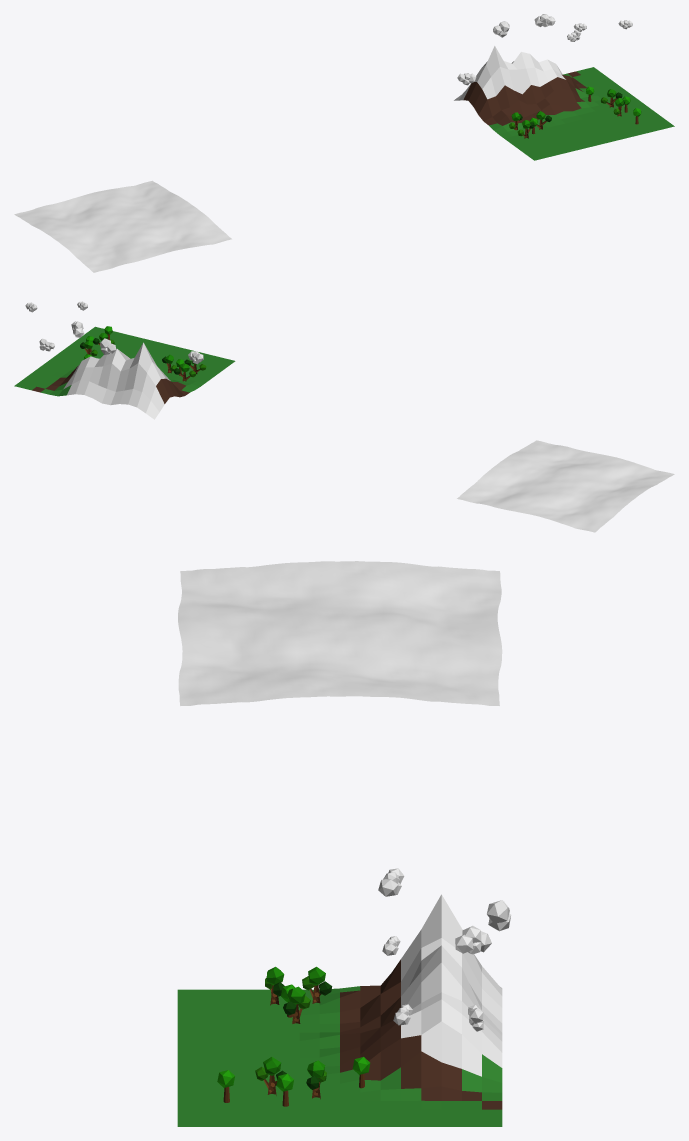
3 renders of one model, top to bottom at view 1: azimuth 30°, elevation 25°; view 2: azimuth 150°, elevation 25°; view 3: azimuth 270°, elevation 25°, orthographic. The views are drawn at different scales.
Parts seen in each view (by area): view 1: Plane, Plane.002; view 2: Plane.002, Plane; view 3: Plane, Plane.002.
Part boxes in pixels (left/top/right/bottom): Plane: left=454, top=46, right=674, bottom=160; Plane.002: left=14, top=180, right=231, bottom=272; Plane.002: left=457, top=440, right=674, bottom=532; Plane: left=14, top=326, right=235, bottom=419; Plane: left=177, top=894, right=502, bottom=1126; Plane.002: left=178, top=561, right=502, bottom=705.
Bounding box in the file's own units: 6760 × 868 × 1643.
